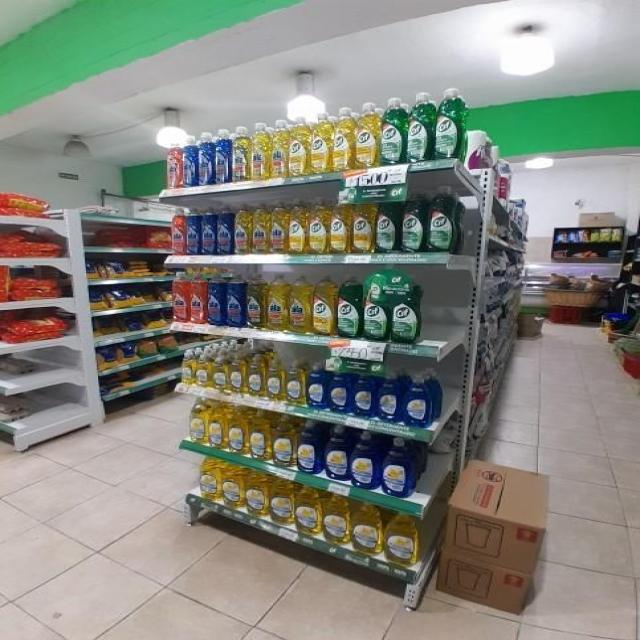ala_conc_amarillo: (289, 274, 311, 334), (266, 273, 288, 331), (250, 122, 270, 180), (246, 273, 266, 330), (271, 118, 288, 179), (270, 200, 288, 255), (232, 125, 249, 182), (252, 201, 269, 254), (234, 203, 251, 255)
ala_conc_azul: (226, 273, 244, 328), (207, 272, 225, 326), (214, 127, 230, 184), (198, 131, 214, 186), (216, 204, 232, 255), (200, 205, 216, 255), (186, 206, 200, 255)
ala_conc_rojo: (189, 271, 206, 324), (171, 271, 188, 323), (166, 134, 182, 189), (170, 206, 185, 255)
cif_conc_bot_amarilla: (354, 102, 378, 169), (312, 274, 336, 336), (332, 106, 353, 172), (352, 192, 374, 254), (310, 109, 330, 174), (289, 114, 309, 176), (328, 195, 349, 254), (308, 196, 328, 255), (288, 198, 307, 254)
cif_conc_botella_verde: (434, 87, 463, 161), (391, 273, 421, 344), (427, 186, 458, 253), (380, 96, 406, 165), (407, 91, 432, 162), (400, 188, 426, 253), (363, 274, 388, 341), (336, 273, 361, 339), (376, 189, 400, 253)
magistral_con_amarillo: (384, 511, 420, 566), (352, 502, 382, 555), (322, 493, 350, 545), (295, 487, 321, 536), (272, 414, 295, 468), (248, 410, 271, 462), (227, 407, 247, 455), (286, 360, 306, 405), (266, 357, 284, 402), (248, 353, 265, 398), (230, 352, 247, 395), (212, 354, 228, 392)
magistral_con_azul: (381, 437, 414, 497), (350, 431, 379, 489), (403, 374, 432, 427), (377, 372, 401, 423), (352, 371, 376, 418), (328, 367, 350, 415), (306, 362, 327, 410)
